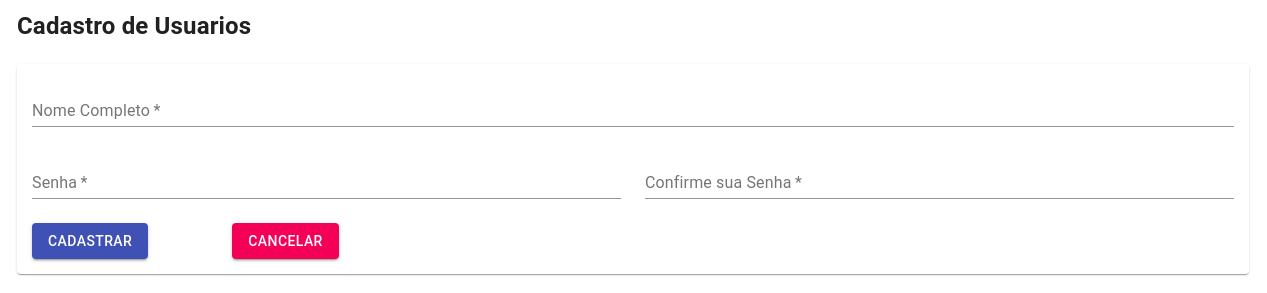
Test: SignUp /> rendering › <SignUp /> creating › SignUp with rejected value › Should show error message
Type "User" into the field labelled "Nome Completo *". click: (633, 111)
box: [32, 95, 1234, 127]
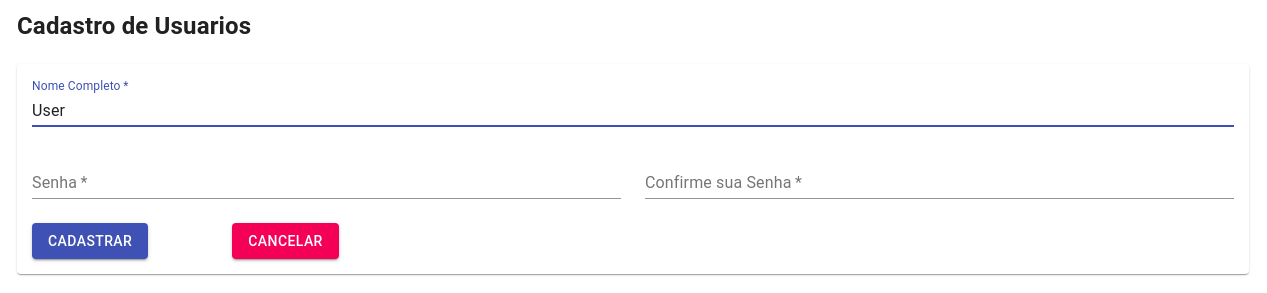
Type "123" into the password field labelled "Senha *". click: (326, 183)
box: [32, 167, 621, 199]
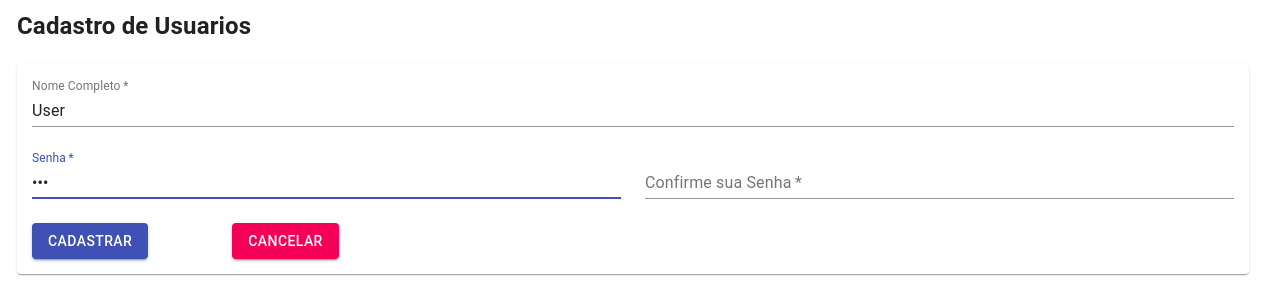
Type "123" into the password field labelled "Confirme sua Senha *". click: (940, 183)
box: [645, 167, 1234, 199]
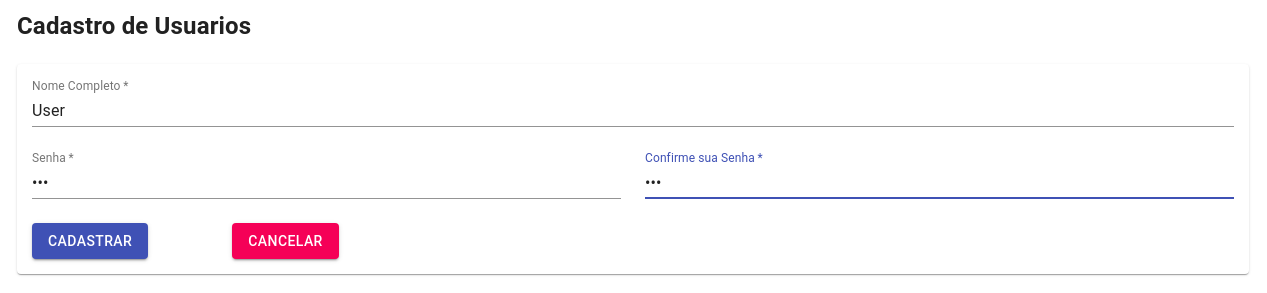
Click the button "Cadastrar". click: (90, 241)
box: [32, 223, 148, 259]
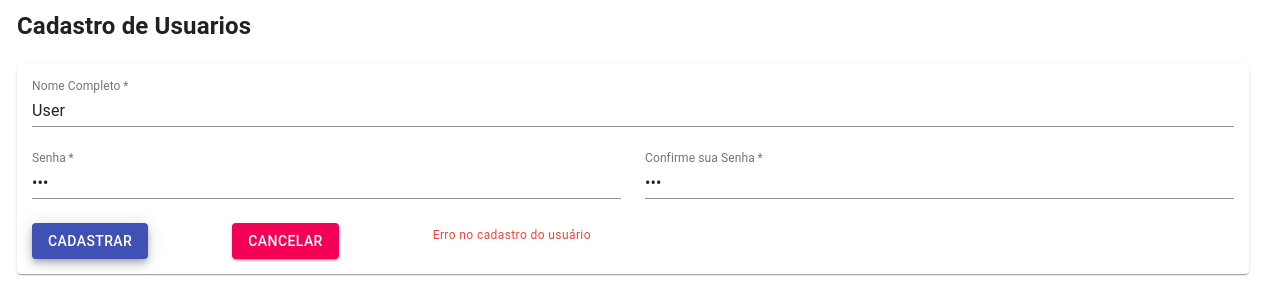
Expected: the text "Erro no cadastro do usuário" is shown, [433, 228, 591, 242]
